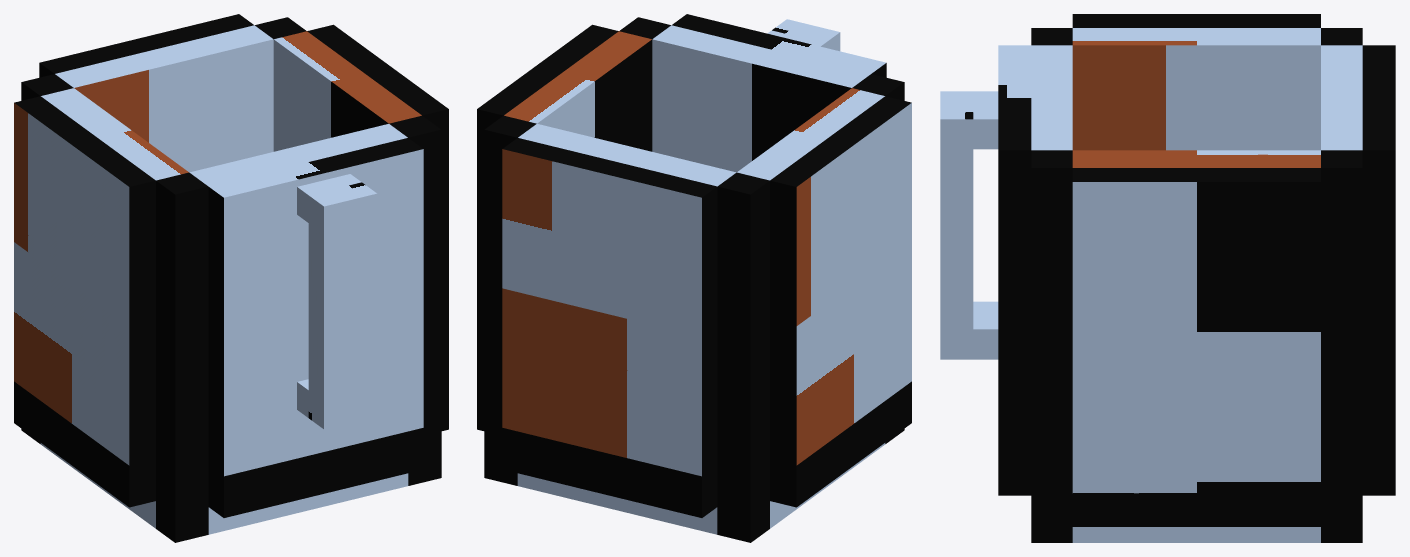
The model's file is mug.obj.
3 renders of one model, left to right at view 1: azimuth 30°, elevation 25°; view 2: azimuth 150°, elevation 25°; view 3: azimuth 270°, elevation 25°, orthographic. The views are drawn at different scales.
Parts seen in each view (by area): view 1: cube; view 2: cube; view 3: cube.
Part boxes in pixels (x1,y1,x2,y2): cube: (14, 14, 448, 542); cube: (477, 14, 911, 542); cube: (940, 14, 1395, 542).
Bounding box in the file's own units: 0.6 × 0.625 × 0.6875.
